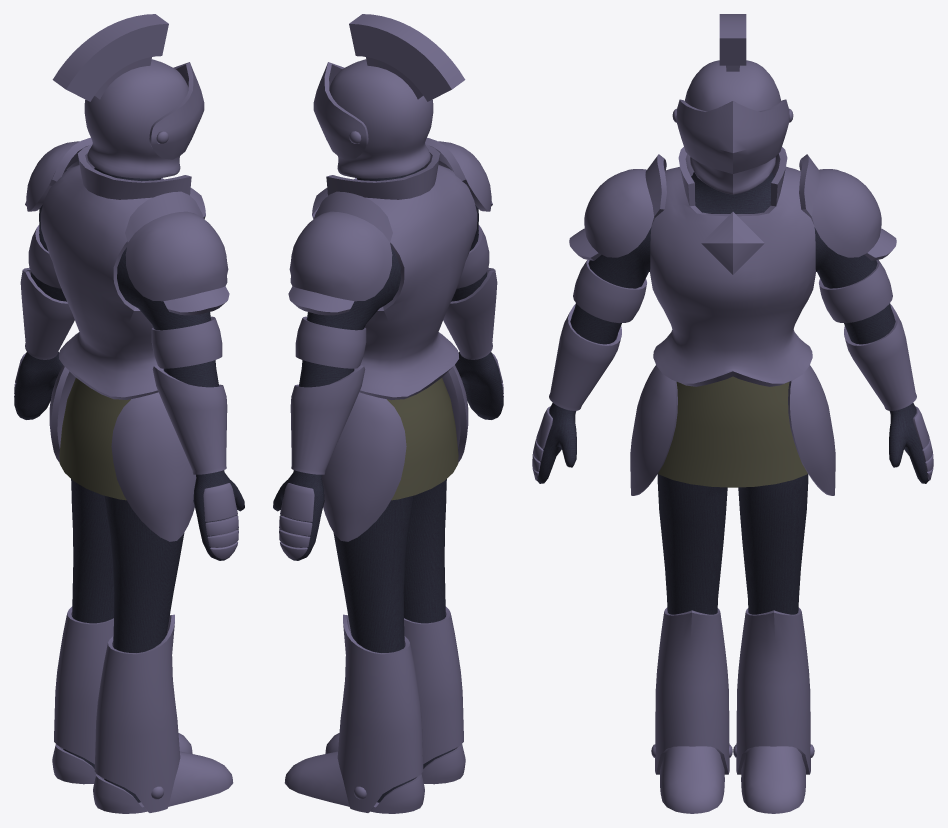
The model's file is KnightStatue.fbx.
3 renders of one model, left to right at view 1: azimuth 30°, elevation 25°; view 2: azimuth 150°, elevation 25°; view 3: azimuth 270°, elevation 25°, orthographic.
Visible parts, largest first — view 1: Armor, Body, Robe; view 2: Armor, Body, Robe; view 3: Armor, Body, Robe.
Boxes of the visible parts, box(x1,y1,x2,y2) form: Armor: box(14, 14, 238, 813); Body: box(14, 167, 244, 802); Robe: box(59, 378, 130, 500); Armor: box(279, 14, 503, 813); Body: box(273, 167, 503, 802); Robe: box(387, 378, 458, 500); Armor: box(532, 14, 933, 813); Body: box(537, 172, 928, 614); Robe: box(658, 376, 807, 487).
Size of the model in its own units: 39 by 188 by 90.5.
